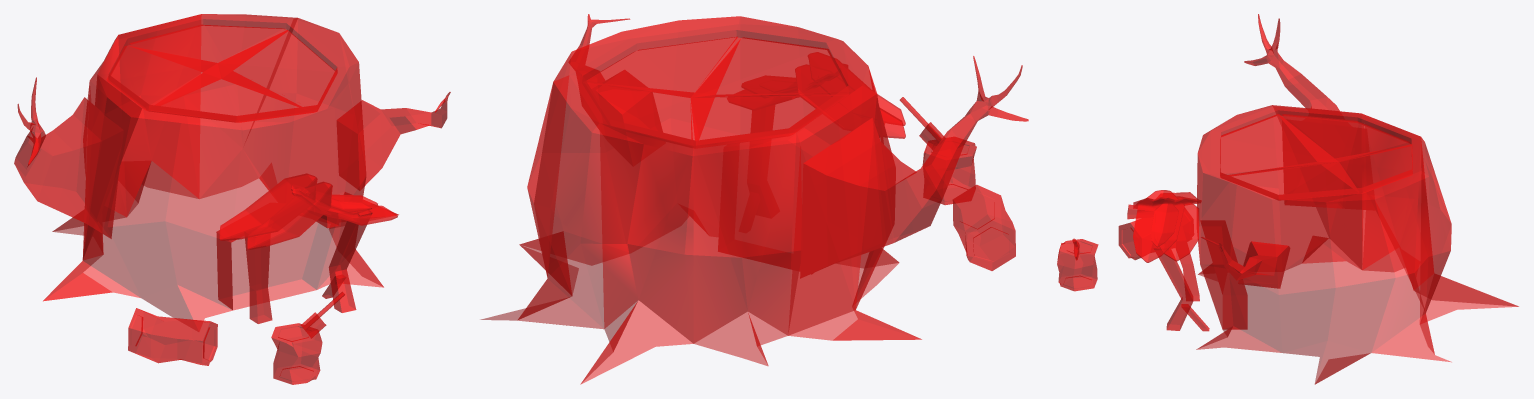
File: Wood_house_impossible_to_place.fbx
3 views of the same model, side by side, from view 1: azimuth 30°, elevation 25°; view 2: azimuth 150°, elevation 25°; view 3: azimuth 270°, elevation 25° (orthographic). The views are drawn at different scales.
Visible parts, largest first — view 1: Cube.014; view 2: Cube.014; view 3: Cube.014.
Boxes of the visible parts, x1,y1,x2,y2 form: Cube.014: [14, 14, 450, 384]; Cube.014: [480, 14, 1028, 384]; Cube.014: [1057, 14, 1518, 384].
Size of the model in its own units: 7 by 8 by 4.
